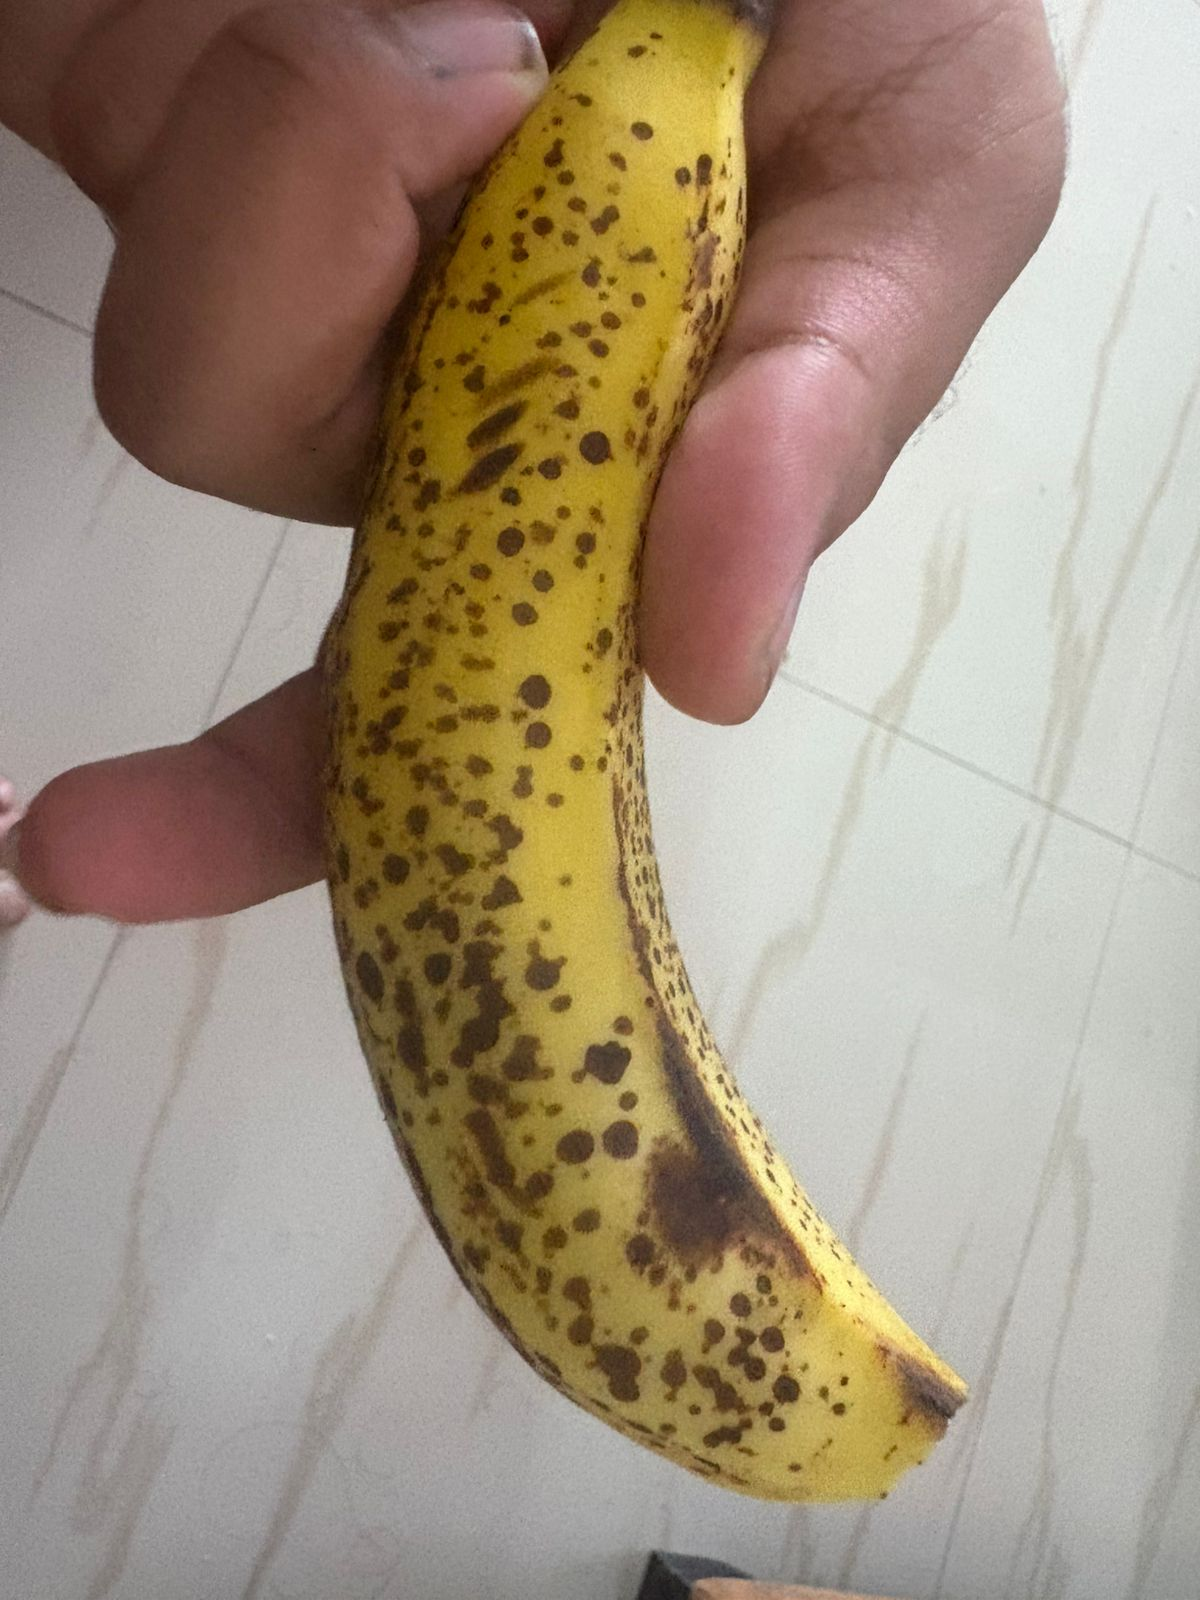wet: (313, 1, 1000, 1514)
